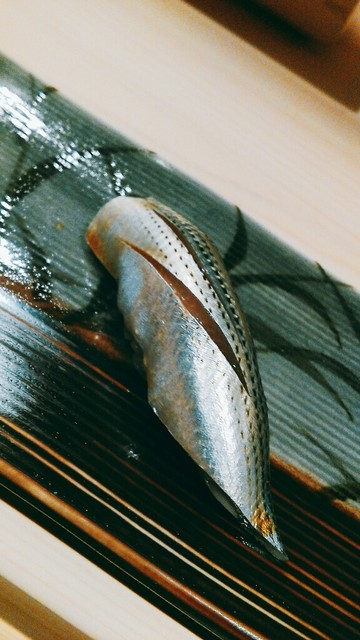spotted-shad: (83, 194, 295, 562)
